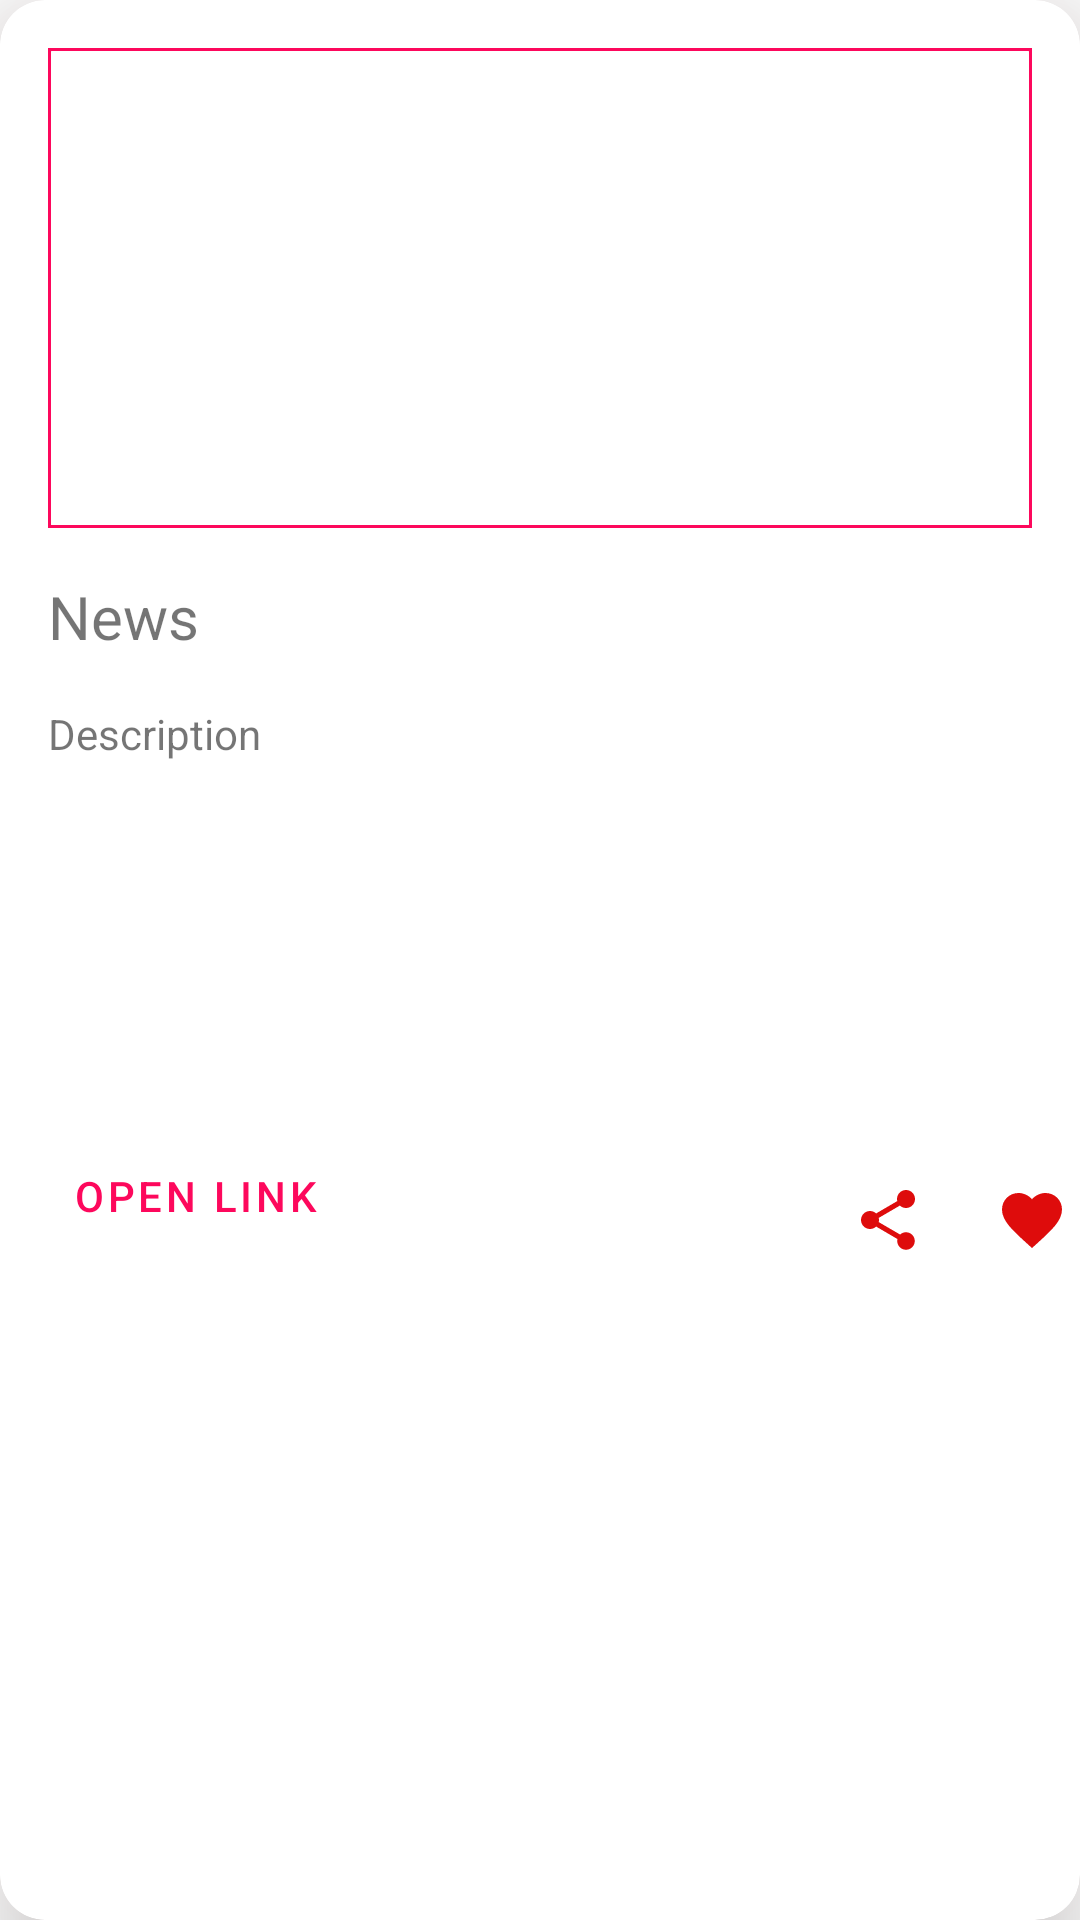

Locate icon controls on the screen. Image size 1080w x 1920h, boxes as BBox(x1, y1, x2, y2).
favorite pico: BBox(1002, 1193, 1062, 1248)
Share Icon: BBox(861, 1190, 915, 1250)
